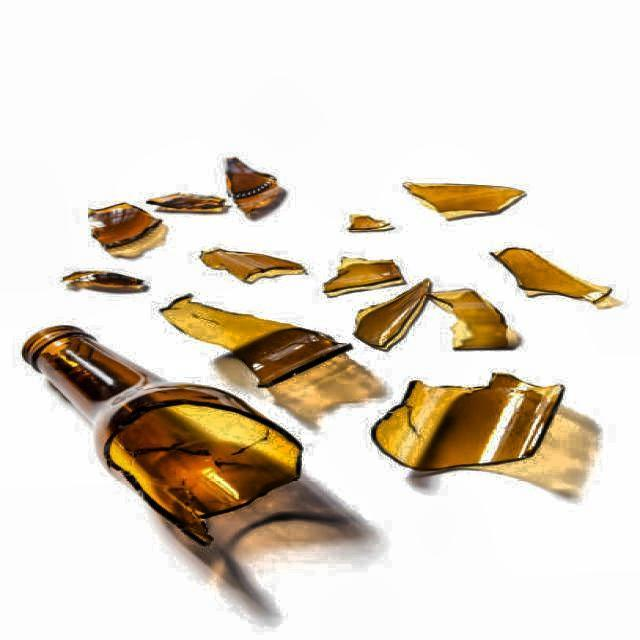glass: (25, 329, 301, 550), (322, 258, 526, 359), (371, 374, 566, 474), (160, 295, 353, 388), (141, 160, 287, 220), (496, 248, 621, 310), (403, 182, 526, 223), (88, 203, 167, 261), (201, 250, 306, 285), (60, 268, 149, 295), (341, 207, 400, 239)
